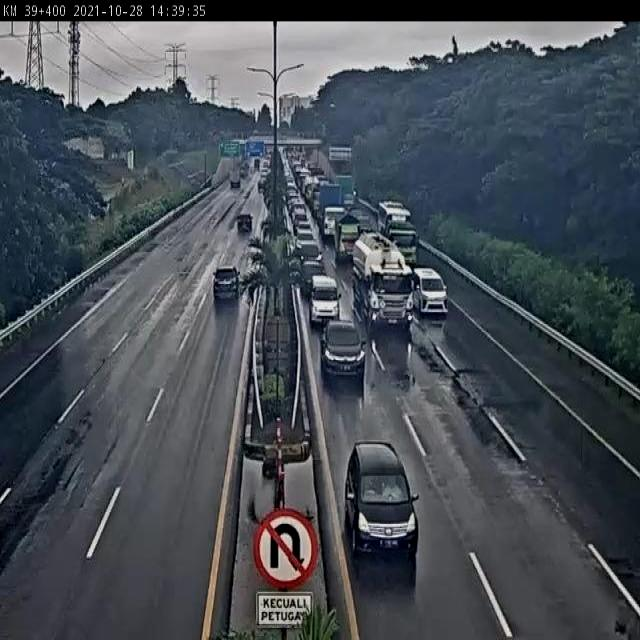Car: (320, 321, 365, 395), (211, 266, 243, 302), (302, 260, 325, 294), (301, 237, 324, 266), (234, 213, 257, 237), (294, 219, 314, 233)
Truck: (352, 231, 410, 336), (378, 201, 421, 263), (320, 187, 344, 239), (334, 218, 361, 260), (227, 169, 243, 191), (353, 212, 354, 216)
Van: (344, 437, 422, 562), (413, 262, 452, 321), (309, 277, 343, 329)
